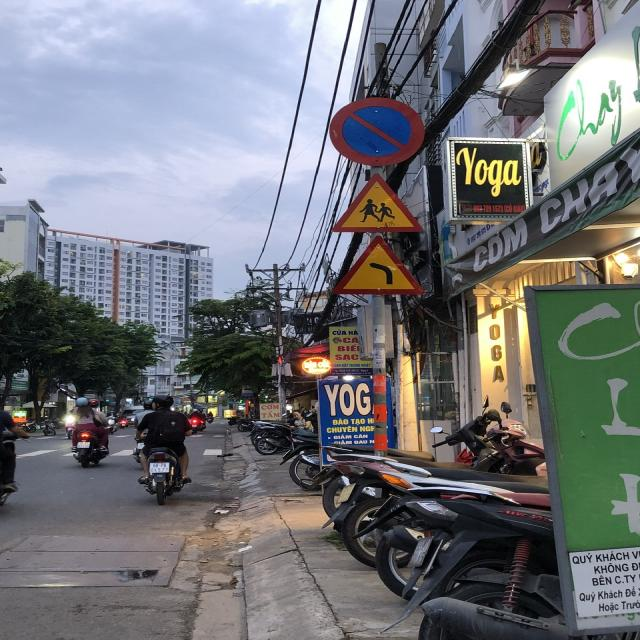Bien bao cam do xe: (318, 89, 436, 170)
Bien bao cho ngoat nguy hiem: (325, 234, 425, 301)
Bien bao tre em: (322, 169, 431, 237)
